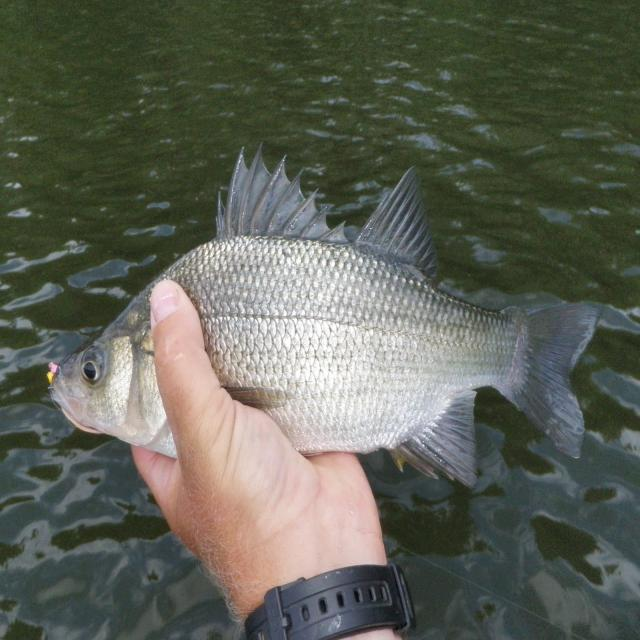Perch - White: (156, 147, 598, 485), (51, 283, 175, 455)
